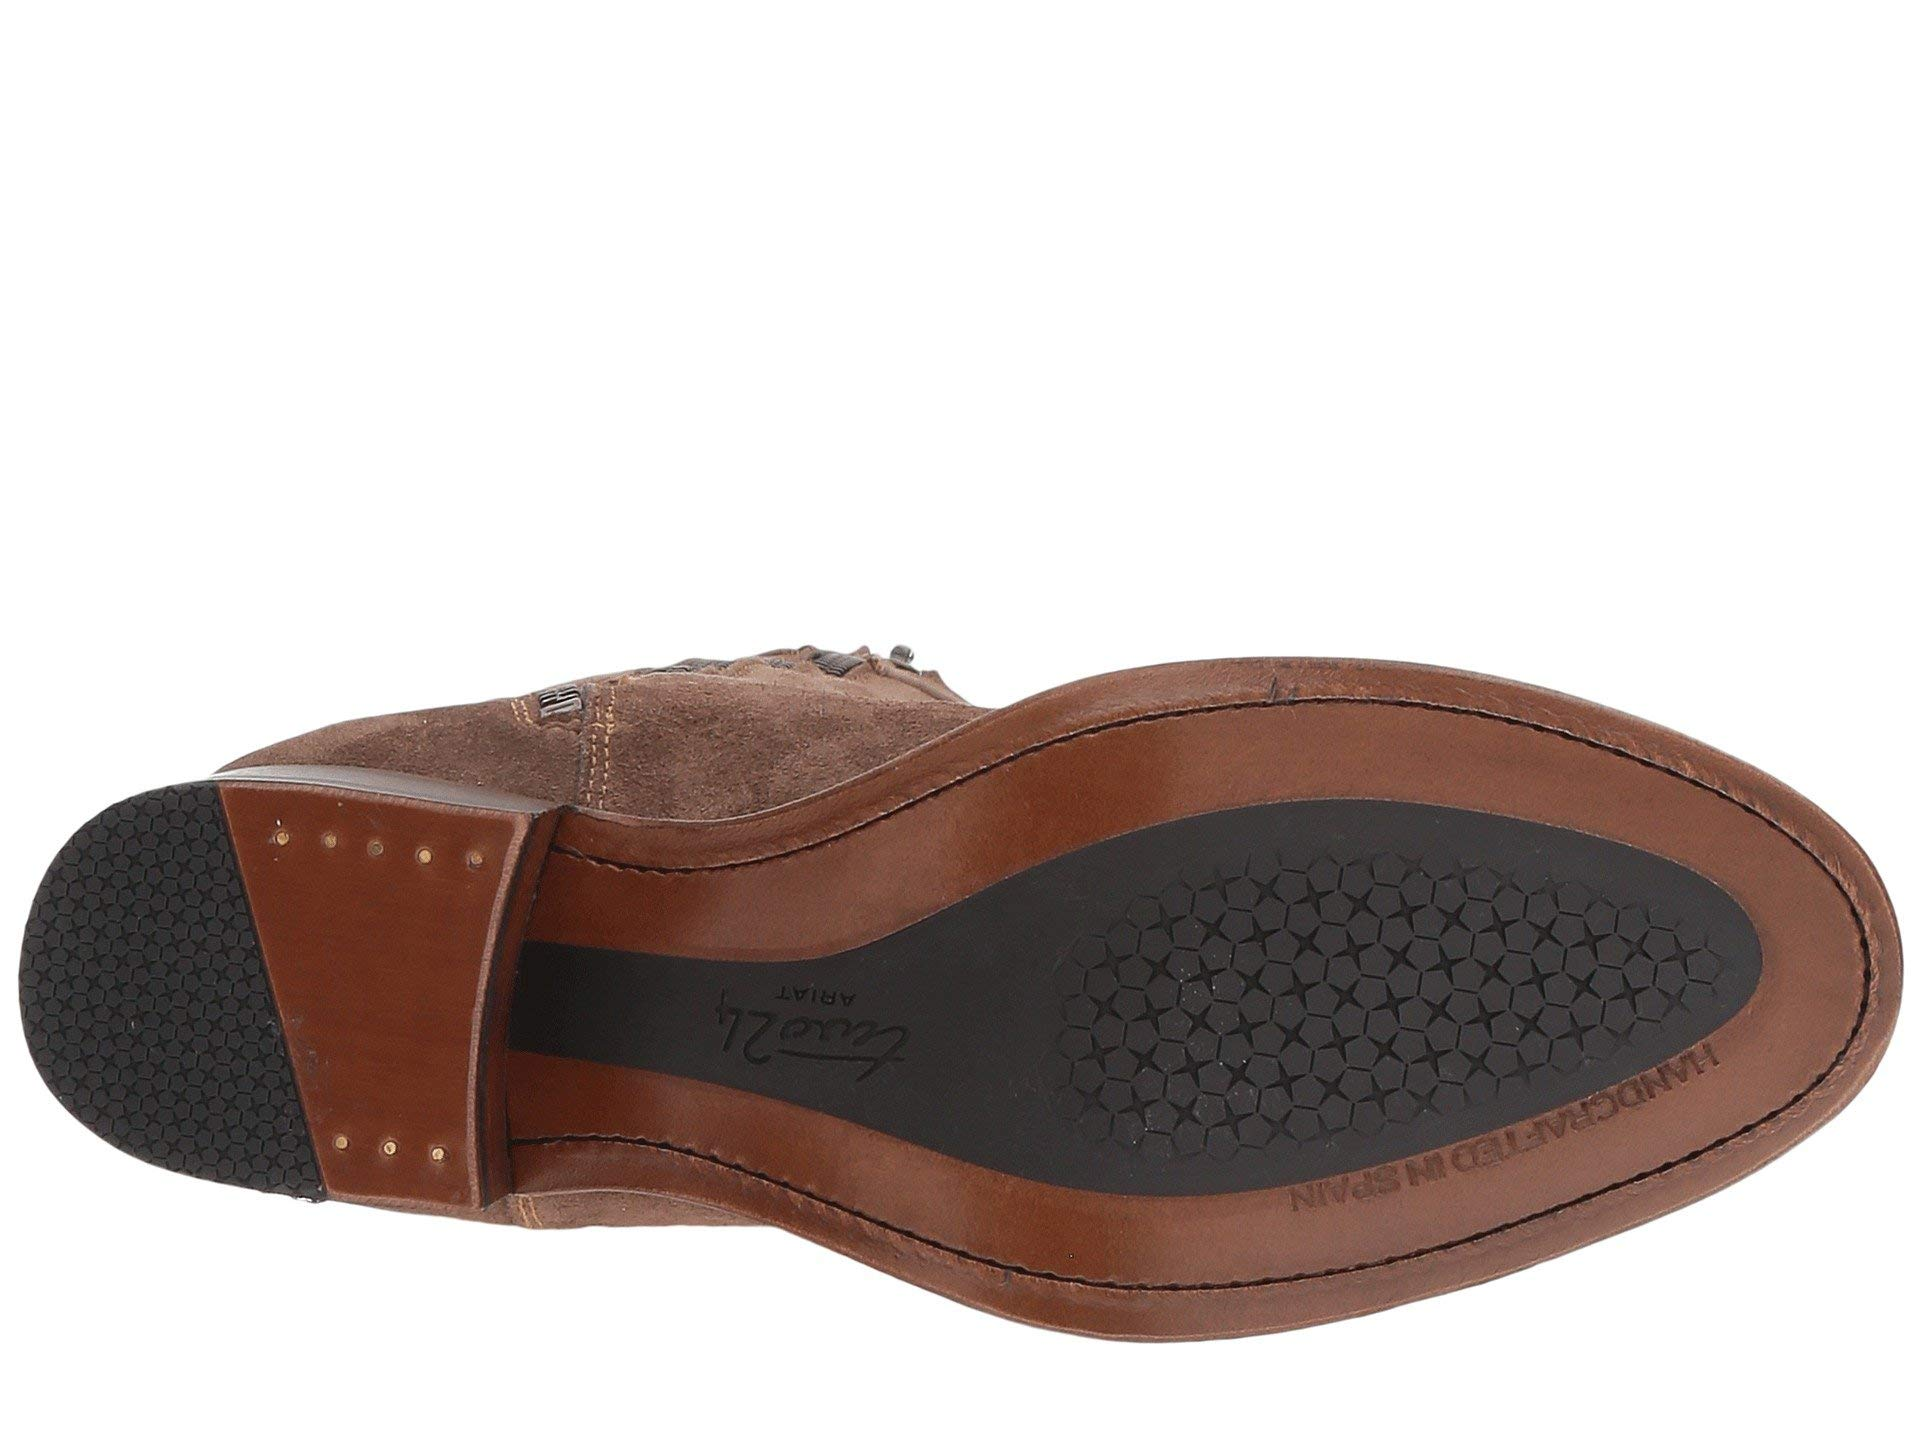circle: (661, 954, 975, 1119), (269, 818, 497, 902)
exclude: (330, 641, 887, 773)
line: (661, 954, 975, 1119), (1095, 676, 1584, 741)
polygon: (1164, 885, 1627, 1060), (63, 876, 212, 1097)
star: (1164, 885, 1627, 1060), (63, 876, 212, 1097)
text: (661, 954, 975, 1119)
